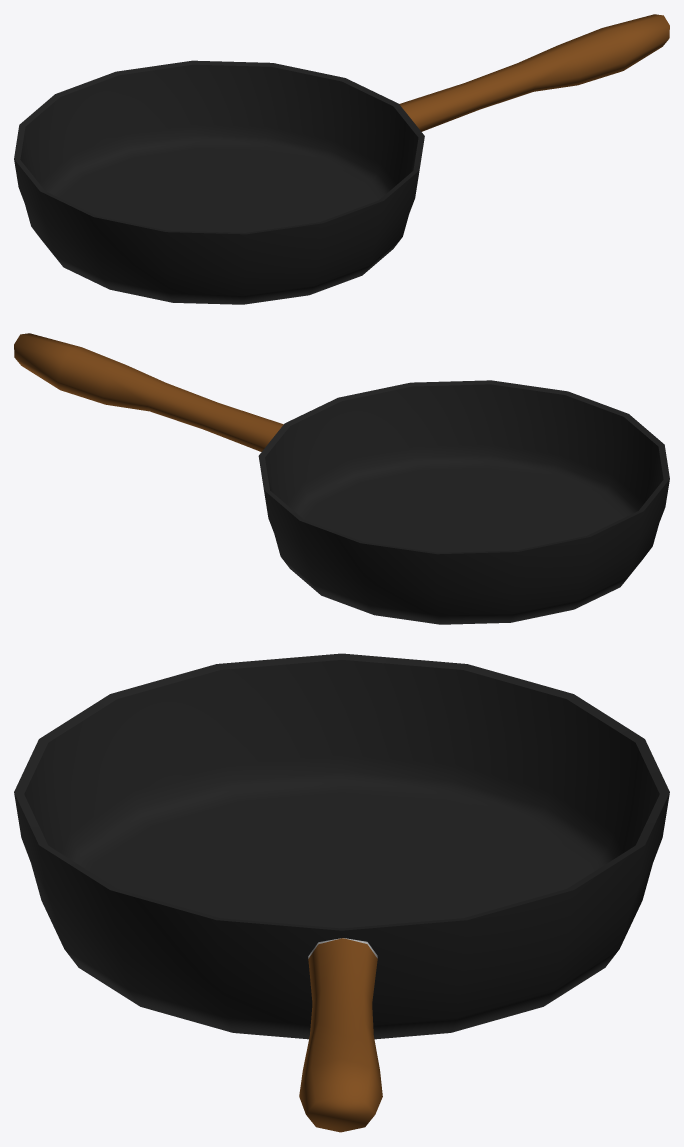
File: FryingPan.glb
3 views of the same model, one above another, from view 1: azimuth 30°, elevation 25°; view 2: azimuth 150°, elevation 25°; view 3: azimuth 270°, elevation 25° (orthographic). The views are drawn at different scales.
Parts seen in each view (by area): view 1: Cylinder, Cylinder.001; view 2: Cylinder, Cylinder.001; view 3: Cylinder, Cylinder.001.
Part boxes in pixels (box(x1,y1,x2,y2)): Cylinder: box(14, 60, 424, 304); Cylinder.001: box(399, 14, 669, 131); Cylinder: box(258, 380, 669, 624); Cylinder.001: box(14, 333, 283, 451); Cylinder: box(14, 653, 669, 1039); Cylinder.001: box(299, 938, 382, 1132).
Size of the model in its own units: 3.34 by 0.5423 by 1.92.
